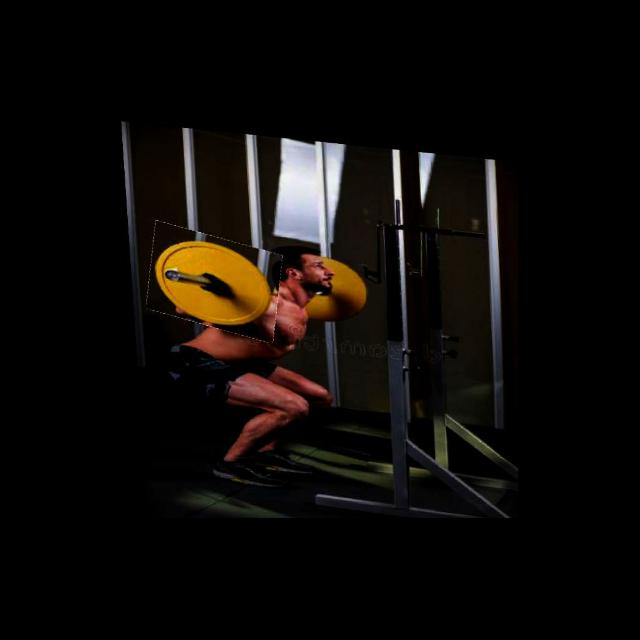barbell: (143, 224, 282, 336)
